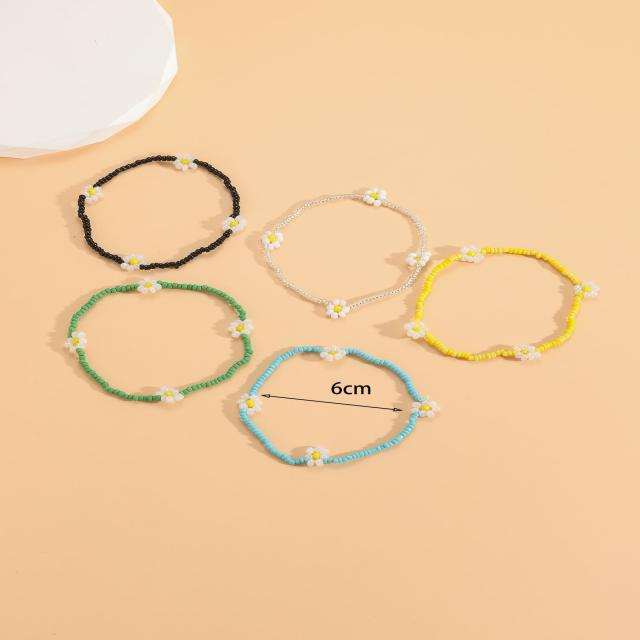bracelet: (26, 73, 640, 475)
